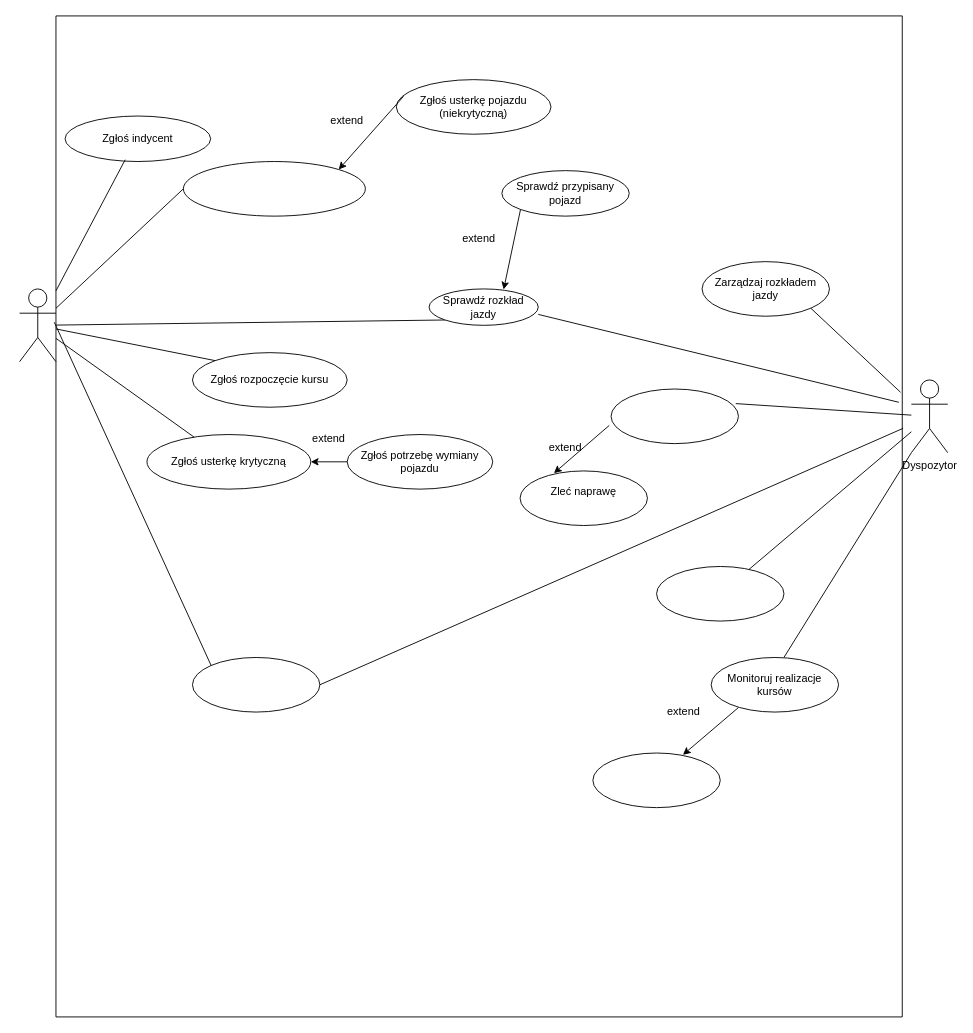
The diagram is 973 pixels wide and 1033 high, and some of its shapes have lost their labels. The centre of each missing label's shape, as x and y in pixels:
"Kierowca" goes at [37,325].
"Przeglądaj zgłoszenia i incydenty" goes at [674,416].
"Zaloguj się do systemu" goes at [256,684].
"Zamień pojazd" goes at [656,780].
"Zarządzaj flotą pojazdów" goes at [720,593].
"Zgłoś zakończenie kursu" goes at [273,188].
